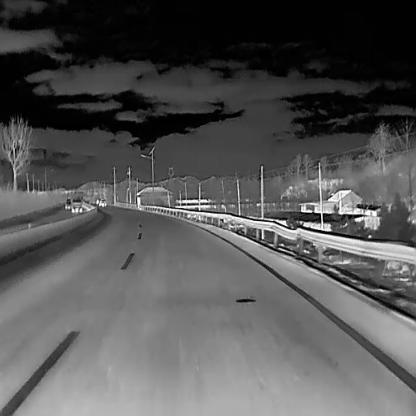car: (70, 195, 83, 211), (64, 198, 71, 211), (99, 197, 106, 207)
